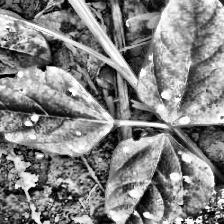Bean Rust: (134, 0, 224, 127), (0, 64, 112, 158), (108, 133, 218, 224)
